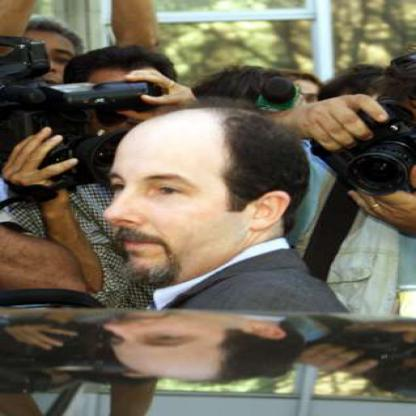face: (87, 112, 253, 285), (10, 24, 84, 105)
